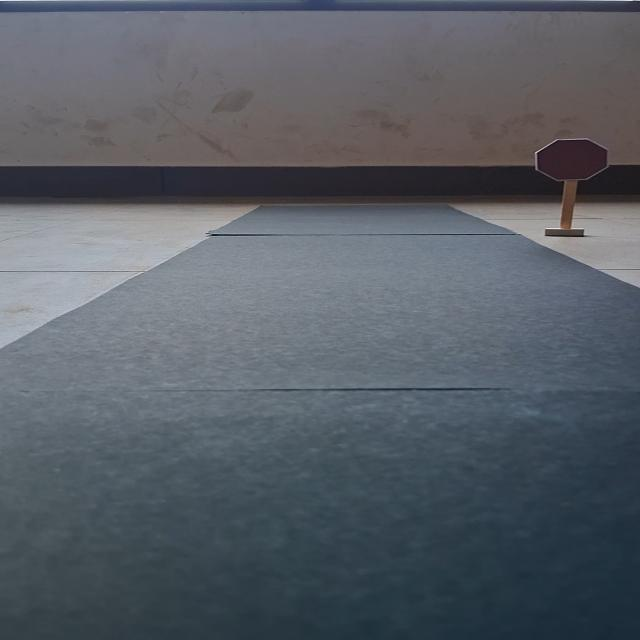Stop: (535, 138, 610, 180)
